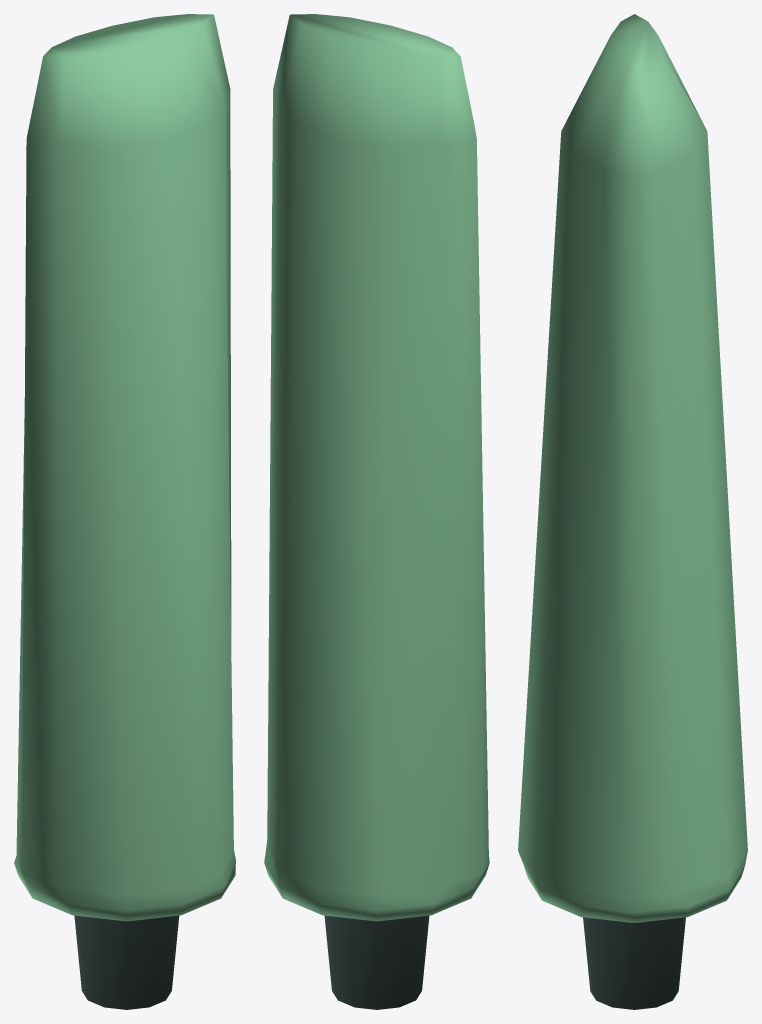
The model's file is Prop_Beauty_02.fbx.
The picture shows the model from 3 angles, left to right: view 1: azimuth 30°, elevation 25°; view 2: azimuth 150°, elevation 25°; view 3: azimuth 270°, elevation 25°; orthographic projection.
Parts seen in each view (by area): view 1: Prop_Beauty_02; view 2: Prop_Beauty_02; view 3: Prop_Beauty_02.
Part boxes in pixels (<box>): Prop_Beauty_02: <box>14,14,235,1009</box>; Prop_Beauty_02: <box>264,14,489,1009</box>; Prop_Beauty_02: <box>518,14,747,1009</box>.
Size of the model in its own units: 4.79 by 20.93 by 4.65.
